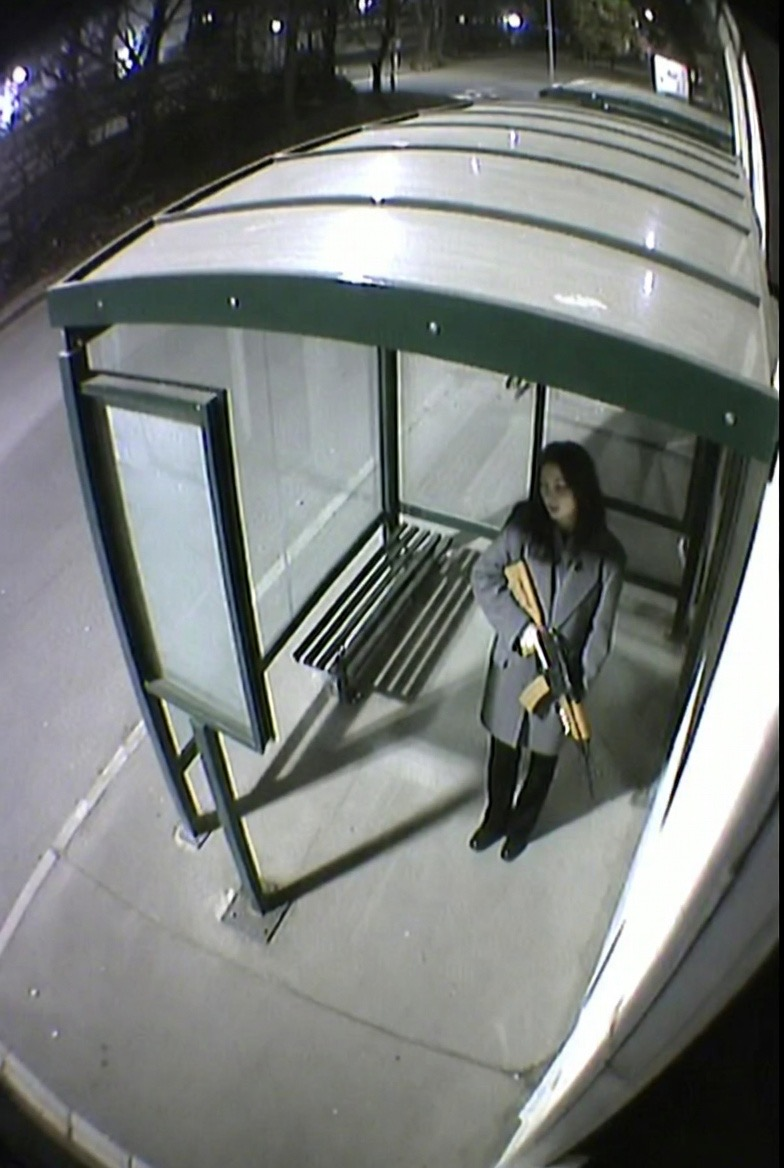person: (469, 439, 628, 861)
weapon: (499, 562, 612, 811)
